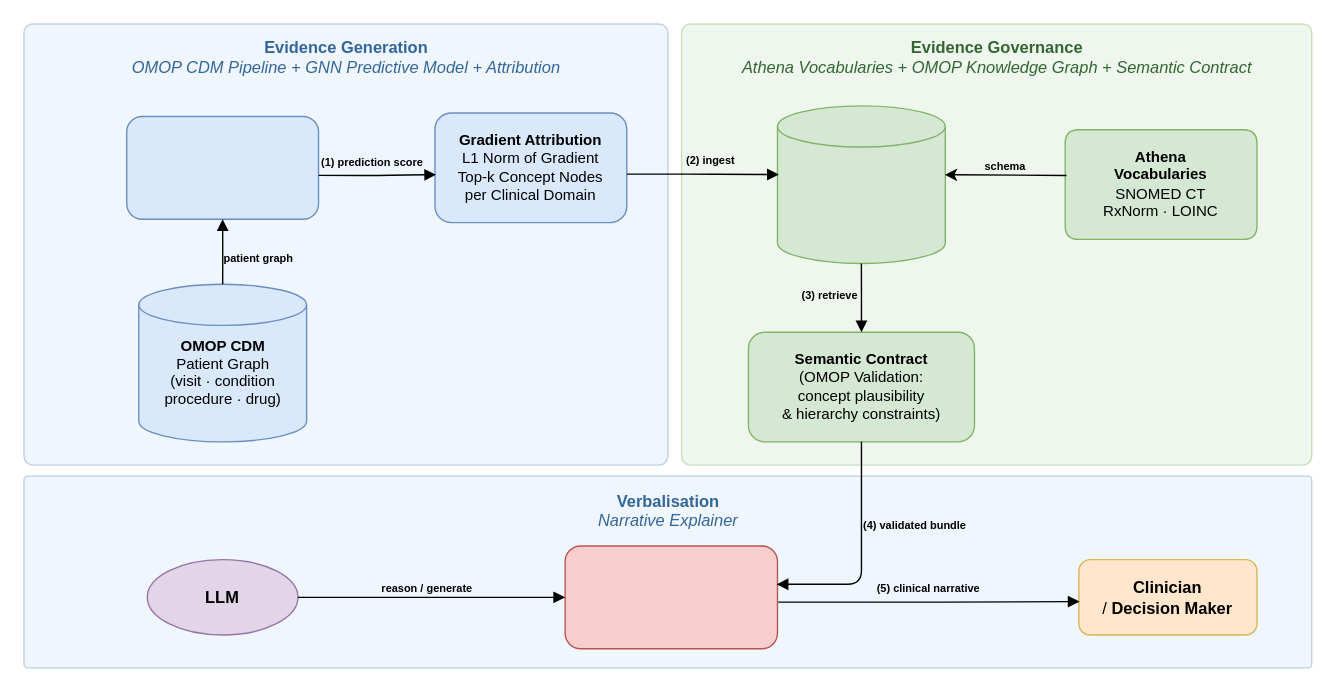
Some shapes in this 1336 by 692 pixel diagram are drawn without their labels. Here are the shapes that lost their labels. From the top down, the centre of each, then its label:
the point at 222,167: GNN Model E-TRANS (HGTConv + Transformer)
the point at 860,184: OMOP Knowledge Graph KG embeddings + concept hierarchies
the point at 670,597: Narrative Explainer (Ontology-Constrained Generation)
